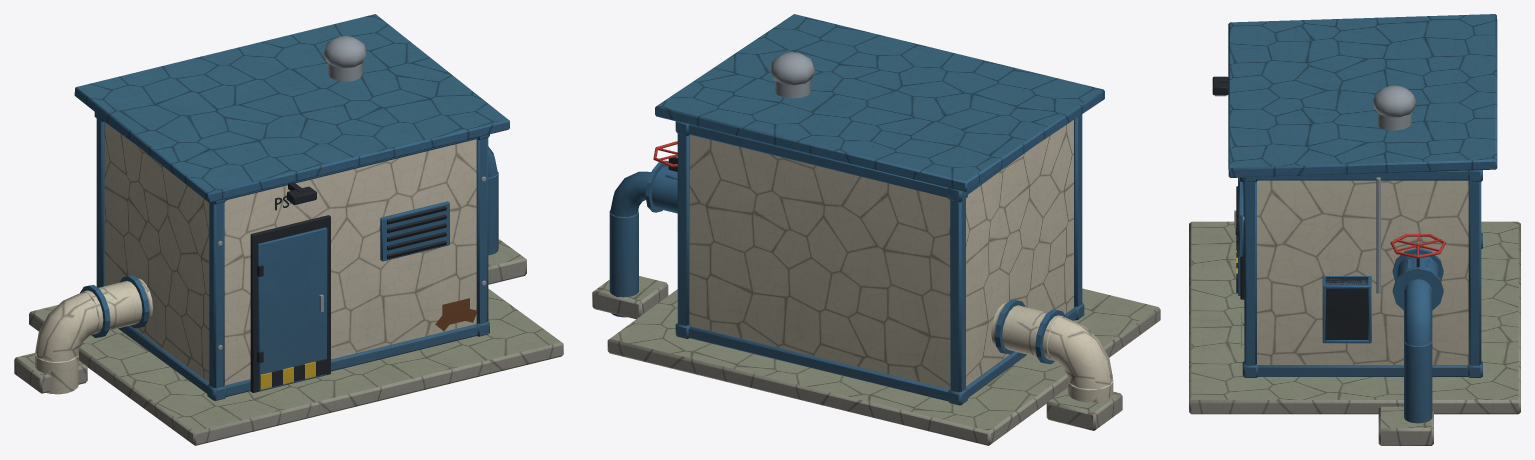
The model's file is pump_station.glb.
3 views of the same model, side by side, from view 1: azimuth 30°, elevation 25°; view 2: azimuth 150°, elevation 25°; view 3: azimuth 270°, elevation 25° (orthographic). The views are drawn at different scales.
Parts seen in each view (by area): view 1: pump_station; view 2: pump_station; view 3: pump_station.
Part boxes in pixels (x1,y1,x2,y2): pump_station: (14,14,563,445); pump_station: (592,14,1160,445); pump_station: (1189,14,1520,445).
Bounding box in the file's own units: 7.1 × 3.85 × 4.2.
Materials: 15 (15 with a texture image).
